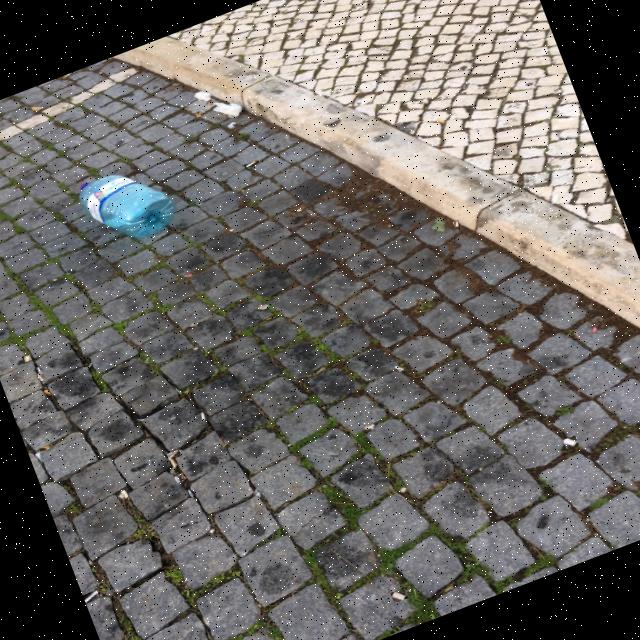Cigarette: (392, 591, 407, 600), (86, 591, 96, 602), (247, 160, 259, 168), (565, 438, 577, 446), (169, 451, 180, 459), (44, 390, 52, 397), (171, 459, 177, 468), (175, 475, 182, 482), (38, 373, 44, 381), (40, 446, 52, 449), (26, 355, 31, 362), (457, 221, 461, 229), (207, 100, 212, 105), (182, 473, 185, 480), (37, 367, 41, 372), (196, 112, 200, 117), (203, 413, 205, 419)
Clear plastic bottle: (81, 174, 175, 237)
